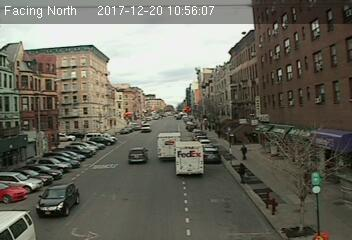car: (34, 182, 79, 217), (128, 147, 149, 164), (203, 146, 220, 165)
pedestrian: (238, 161, 248, 187), (238, 142, 248, 160)
truck: (173, 140, 205, 177), (157, 132, 181, 162)
